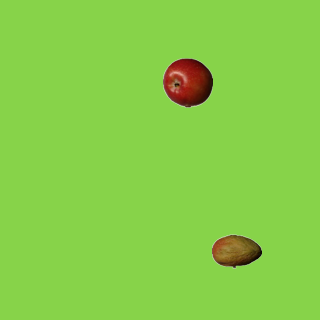Apple Braeburn: (162, 57, 212, 107)
Papaya: (211, 226, 261, 276)
